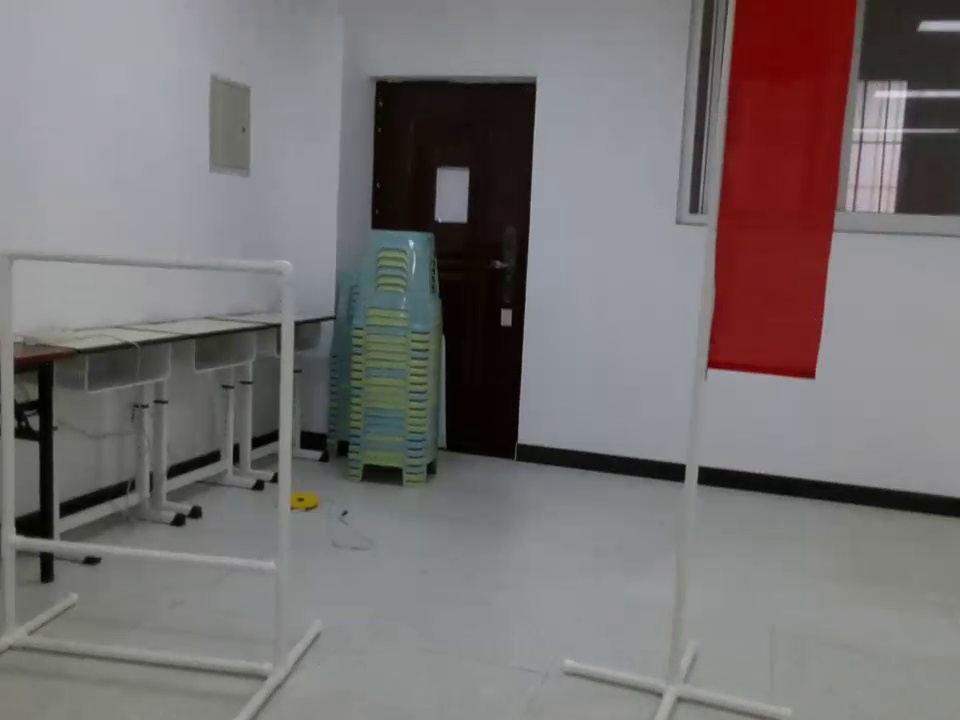qi: (693, 2, 858, 390)
